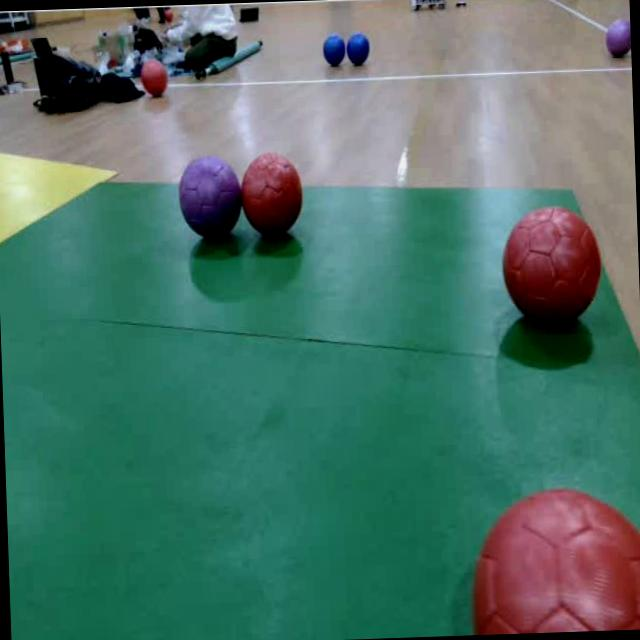blue_ball: (346, 33, 371, 65), (322, 34, 344, 66)
purple_ball: (178, 154, 244, 236), (606, 16, 631, 56)
red_ball: (471, 482, 640, 634), (502, 205, 604, 328), (242, 152, 302, 240), (140, 60, 168, 96)
